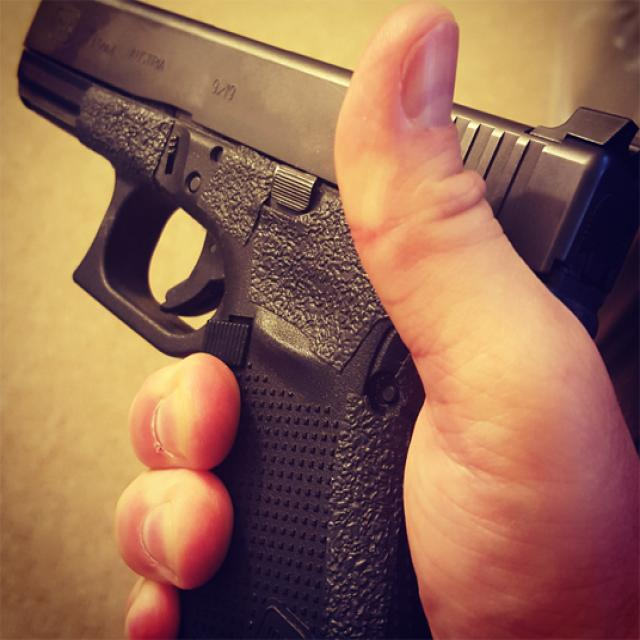HandGun: (18, 0, 640, 640)
